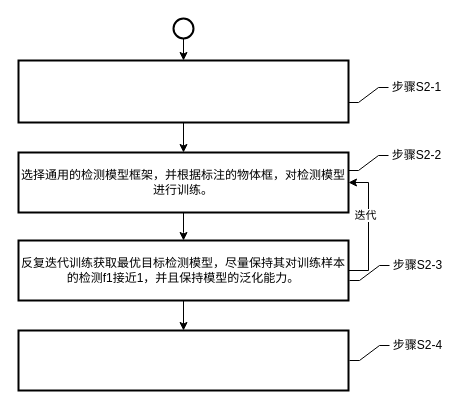
Image size: 469x408. Some labels were removed from this diagram. The shapes that lost their labels are listed below. From the top down, each one's centre as x and y in pixels, then its label:
[183,91]: 标注步骤S1中采集到的单目RGB图像数据，给出其中需要评估距离的物体的矩形检测框。
[183,360]: 回溯目标检测模型的训练样本，并保存模型检测出来的检测框坐标。
